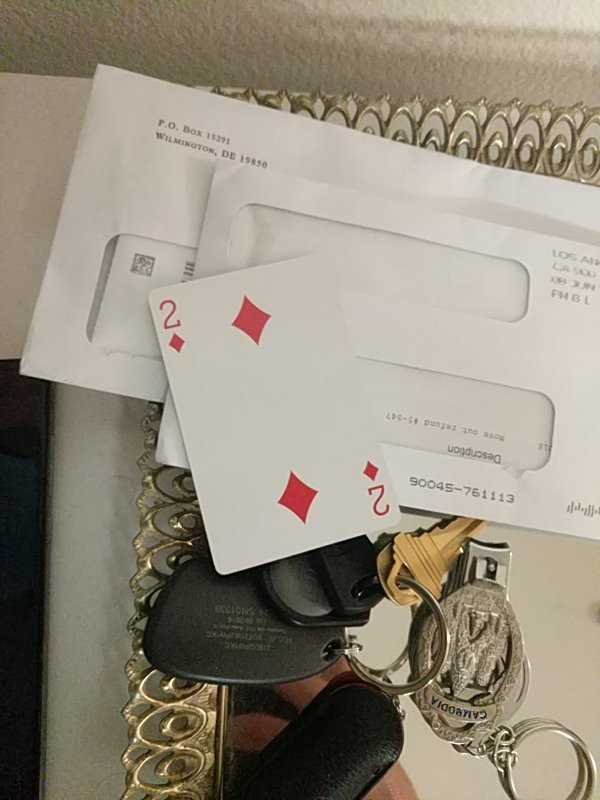Diamonds: (148, 253, 402, 578)
